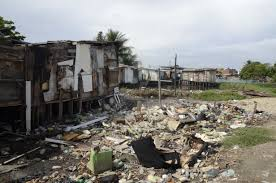rubble: (105, 98, 247, 161)
